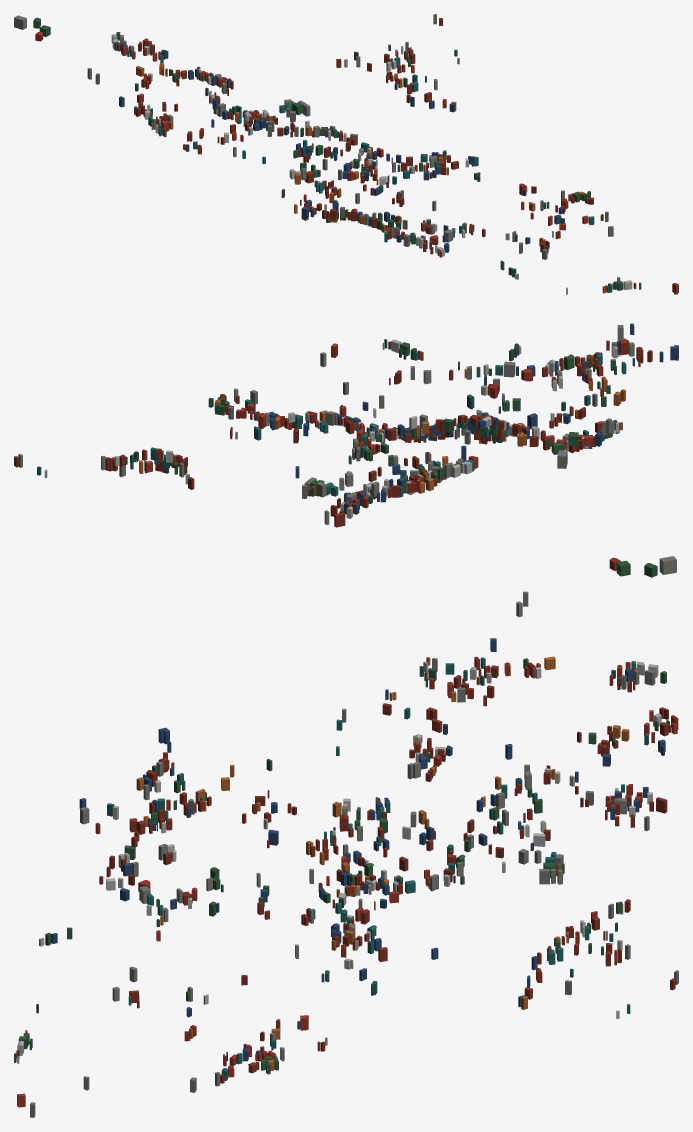
Rendered from near-15-27363-14870.316cbb64.glb.
3 renders of one model, top to bottom at view 1: azimuth 30°, elevation 25°; view 2: azimuth 150°, elevation 25°; view 3: azimuth 270°, elevation 25°, orthographic. The views are drawn at different scales.
Size of the model in its own units: 1159 by 537 by 1151.
